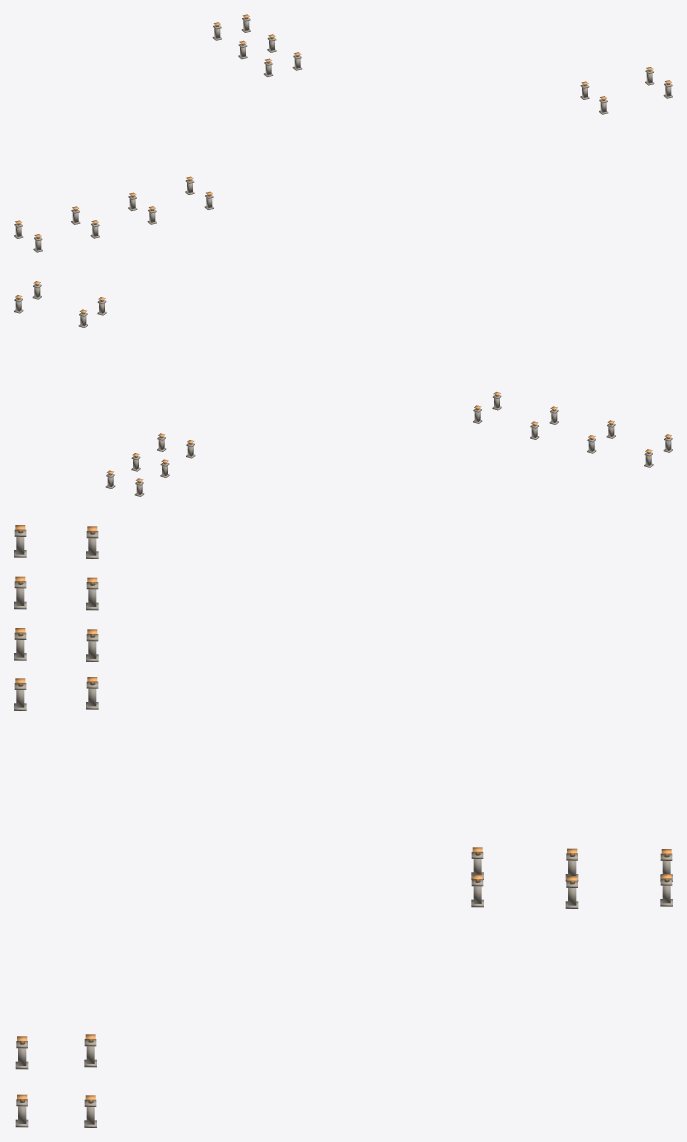
The model's file is SM_Mesale.glb.
3 views of the same model, one above another, from view 1: azimuth 30°, elevation 25°; view 2: azimuth 150°, elevation 25°; view 3: azimuth 270°, elevation 25° (orthographic). The views are drawn at different scales.
Visible parts, largest first — view 1: Tas, Kor; view 2: Tas, Kor; view 3: Tas, Kor.
Boxes of the visible parts, box(x1,y1,x2,y2) form: Tas: box(14, 17, 672, 252); Kor: box(15, 14, 671, 237); Tas: box(14, 284, 672, 496); Kor: box(15, 281, 671, 481); Tas: box(14, 529, 672, 1127); Kor: box(15, 525, 671, 1099).
Bounding box in the file's own units: 53.55 × 1.59 × 25.97.
